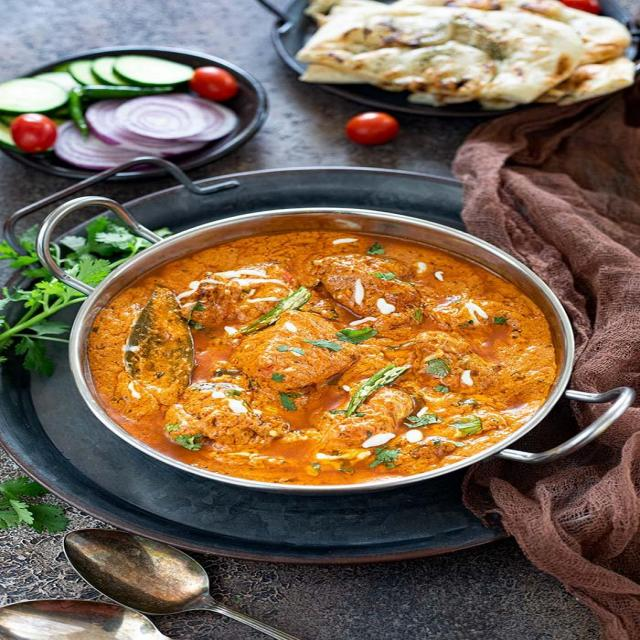chicken: (107, 192, 512, 459)
